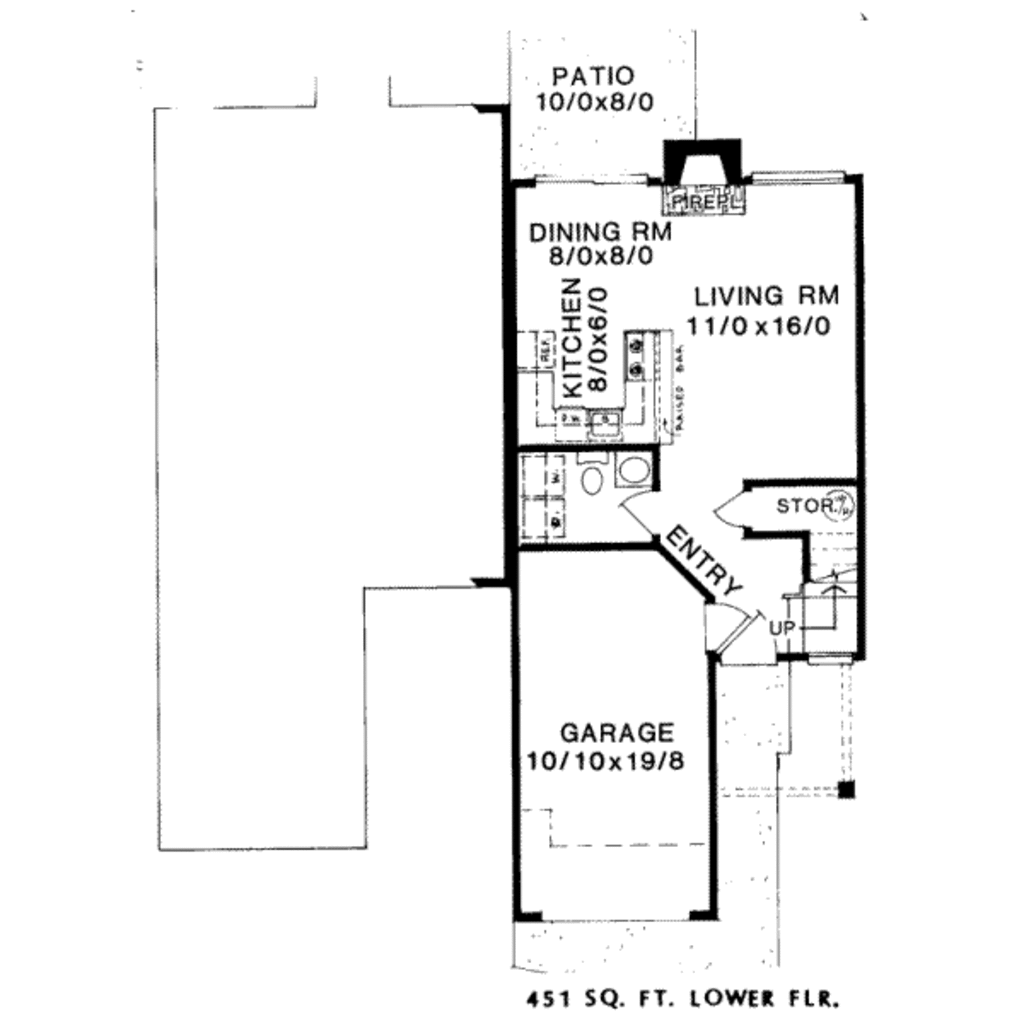door: (711, 611, 781, 671), (698, 589, 745, 657), (714, 484, 765, 530)
large_sink: (568, 449, 621, 503)
small_sink: (611, 446, 657, 495)
stairs: (776, 474, 870, 665)
window: (527, 165, 659, 190), (743, 163, 848, 185)
